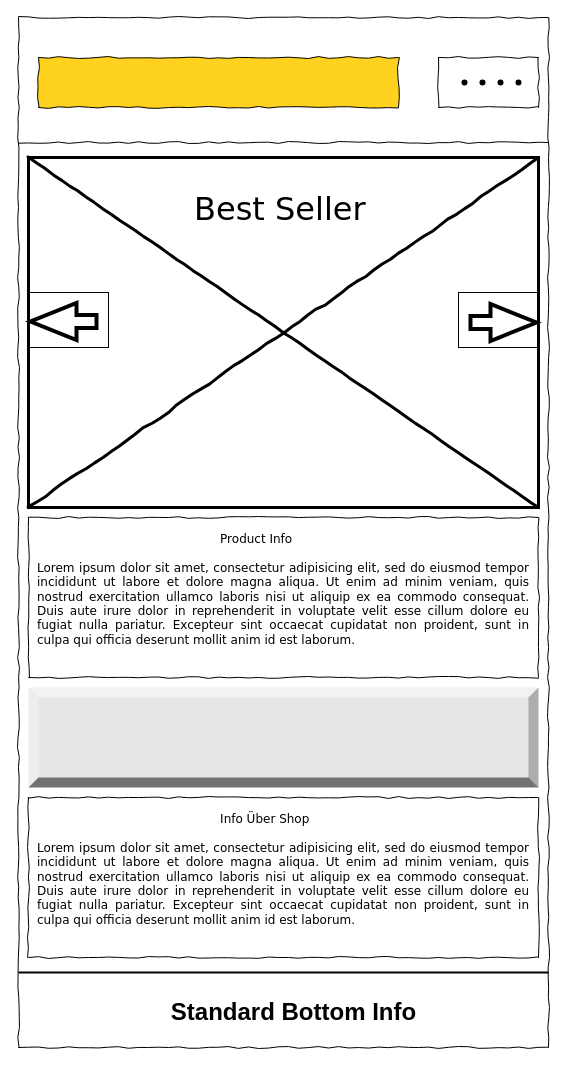
Image size: 566x1065. Some labels were removed from this diagram. Here are the shapes that lost their labels. From the top down, the box of each, then its label:
(38, 56, 398, 108): LOGO 1
(28, 687, 538, 787): Alle Kategorien (oder "Alle Produkte")
